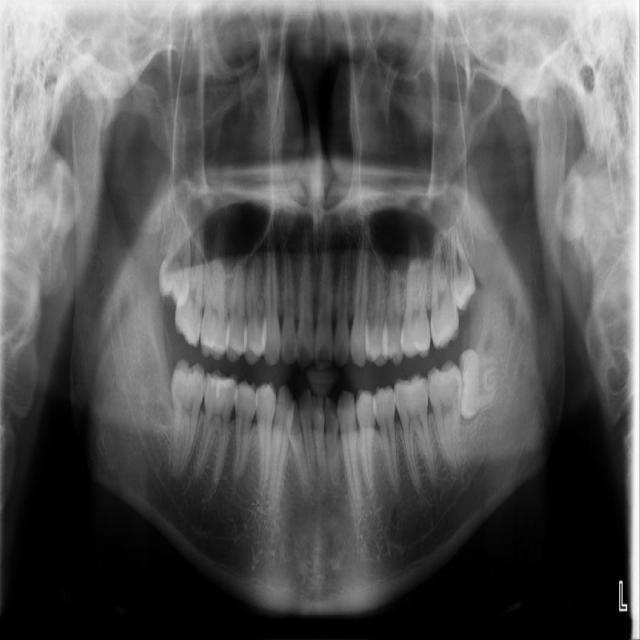Filling: (204, 375, 237, 396), (403, 338, 429, 355)
impacted tooth: (458, 350, 511, 425), (158, 191, 192, 305), (453, 229, 476, 309)
